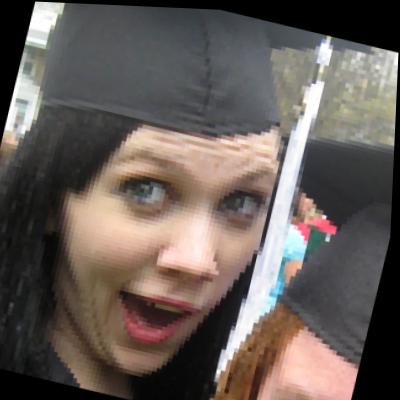surprise: (40, 83, 279, 388)
